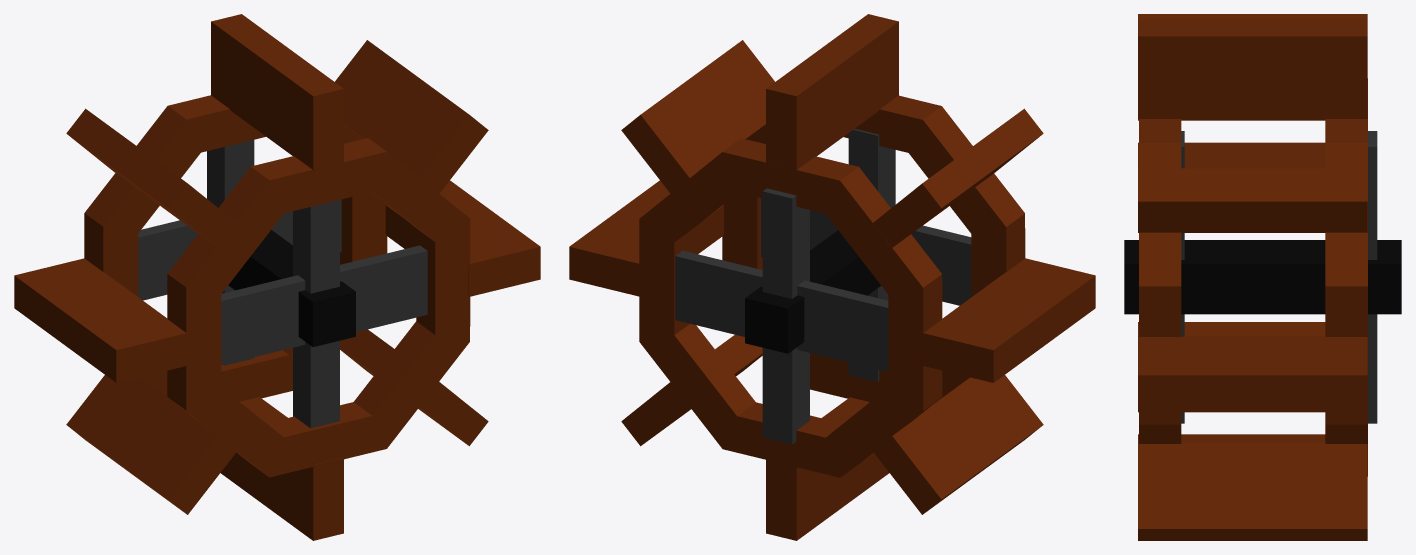
File: melnica 1.fbx
3 views of the same model, side by side, from view 1: azimuth 30°, elevation 25°; view 2: azimuth 150°, elevation 25°; view 3: azimuth 270°, elevation 25° (orthographic). The views are drawn at different scales.
Visible parts, largest first — view 1: Cube.001; view 2: Cube.001; view 3: Cube.001.
Part boxes in pixels (x1=…): Cube.001: x1=14, y1=14, x2=540, y2=540; Cube.001: x1=569, y1=14, x2=1095, y2=540; Cube.001: x1=1124, y1=14, x2=1401, y2=540.
Size of the model in its own units: 2.99 by 2.99 by 1.51.
